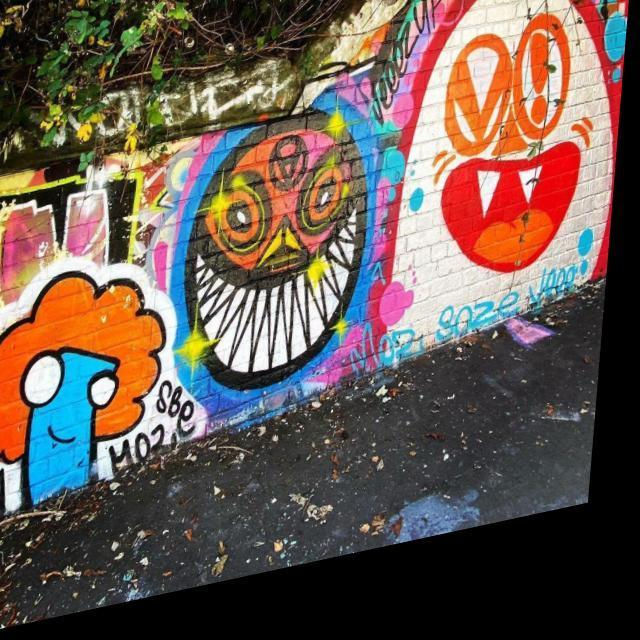-: (371, 0, 636, 367), (180, 125, 377, 410), (0, 233, 180, 520), (438, 286, 588, 380), (162, 382, 210, 455), (355, 342, 428, 390)
